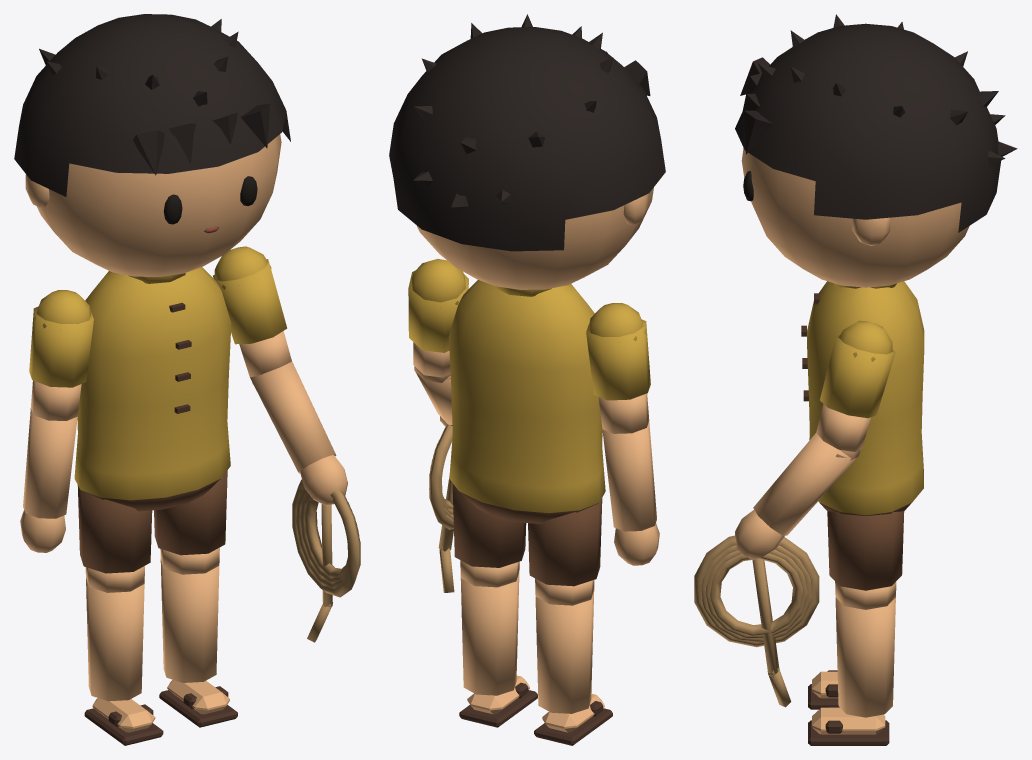
File: isan_buffalo_boy.glb
3 views of the same model, side by side, from view 1: azimuth 30°, elevation 25°; view 2: azimuth 150°, elevation 25°; view 3: azimuth 270°, elevation 25° (orthographic).
Visible parts, largest first — view 1: head, body, shin_R, shin_L, arm_R, arm_L, forearm_L, leg_R, forearm_R, prop_rope_coil, leg_L; view 2: head, body, shin_L, shin_R, arm_R, leg_R, forearm_R, arm_L, leg_L, prop_rope_coil, forearm_L; view 3: head, body, shin_L, prop_rope_coil, arm_L, leg_L, forearm_L, shin_R.
Part boxes in pixels (x1,y1,x2,y2): head: (14,14,290,276); body: (74,267,231,511); shin_R: (84,578,163,745); shin_L: (159,559,237,727); arm_R: (29,290,93,420); arm_L: (213,246,291,384); forearm_L: (250,361,347,505); leg_R: (77,485,152,592); forearm_R: (20,408,77,552); prop_rope_coil: (292,479,360,642); leg_L: (154,470,227,574); head: (389,14,665,289); body: (448,280,605,524); shin_L: (459,573,537,727); shin_R: (534,590,612,745); arm_R: (586,303,650,433); leg_R: (528,498,602,605); forearm_R: (602,421,659,565); arm_L: (408,259,468,383); leg_L: (452,483,526,587); prop_rope_coil: (429,425,454,592); forearm_L: (414,366,452,426); head: (735,14,1017,287); body: (801,281,924,515); shin_L: (808,597,895,745); prop_rope_coil: (694,535,819,707); arm_L: (816,320,895,460); leg_L: (827,511,904,609); forearm_L: (735,433,860,559); shin_R: (808,670,838,709).
Bounding box in the file's own units: 0.5388 × 1.32 × 0.5652.
